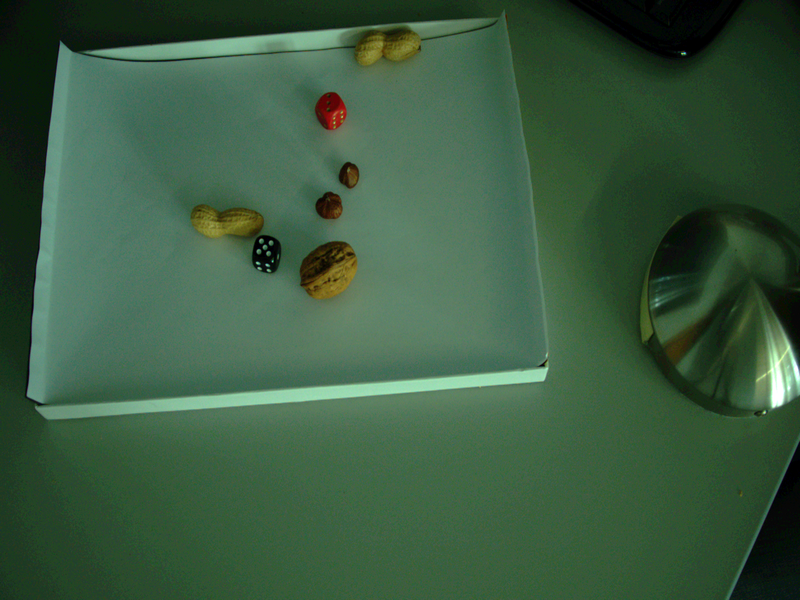walnut: (294, 235, 367, 308)
